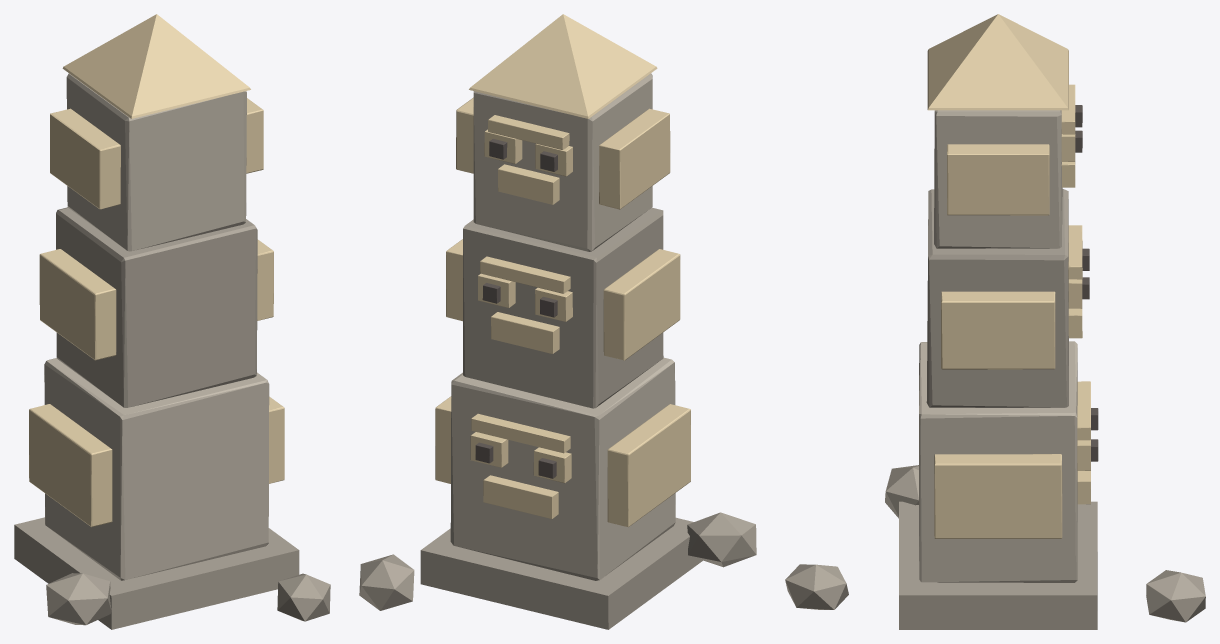
File: 45-Arte3D_totem_isla.glb
3 renders of one model, left to right at view 1: azimuth 30°, elevation 25°; view 2: azimuth 150°, elevation 25°; view 3: azimuth 270°, elevation 25°, orthographic. The views are drawn at different scales.
Visible parts, largest first — view 1: SM_Totem_M_Piedra_Totem, SM_Totem_M_Piedra_Totem_Osc, SM_Totem_M_Talla_Totem; view 2: SM_Totem_M_Talla_Totem, SM_Totem_M_Piedra_Totem, SM_Totem_M_Piedra_Totem_Osc, SM_Totem_M_Ojo_Totem; view 3: SM_Totem_M_Talla_Totem, SM_Totem_M_Piedra_Totem_Osc, SM_Totem_M_Piedra_Totem, SM_Totem_M_Ojo_Totem.
Part boxes in pixels (x1=…): SM_Totem_M_Piedra_Totem: x1=44, y1=73, x2=269, y2=580; SM_Totem_M_Piedra_Totem_Osc: x1=14, y1=207, x2=330, y2=629; SM_Totem_M_Talla_Totem: x1=29, y1=14, x2=284, y2=527; SM_Totem_M_Talla_Totem: x1=435, y1=14, x2=690, y2=527; SM_Totem_M_Piedra_Totem: x1=450, y1=73, x2=675, y2=580; SM_Totem_M_Piedra_Totem_Osc: x1=359, y1=207, x2=756, y2=629; SM_Totem_M_Ojo_Totem: x1=475, y1=139, x2=557, y2=478; SM_Totem_M_Talla_Totem: x1=927, y1=14, x2=1090, y2=538; SM_Totem_M_Piedra_Totem_Osc: x1=785, y1=189, x2=1205, y2=629; SM_Totem_M_Piedra_Totem: x1=919, y1=110, x2=1077, y2=582; SM_Totem_M_Ojo_Totem: x1=1075, y1=105, x2=1098, y2=461.
Size of the model in its own units: 1.11 by 2.2 by 1.47.
